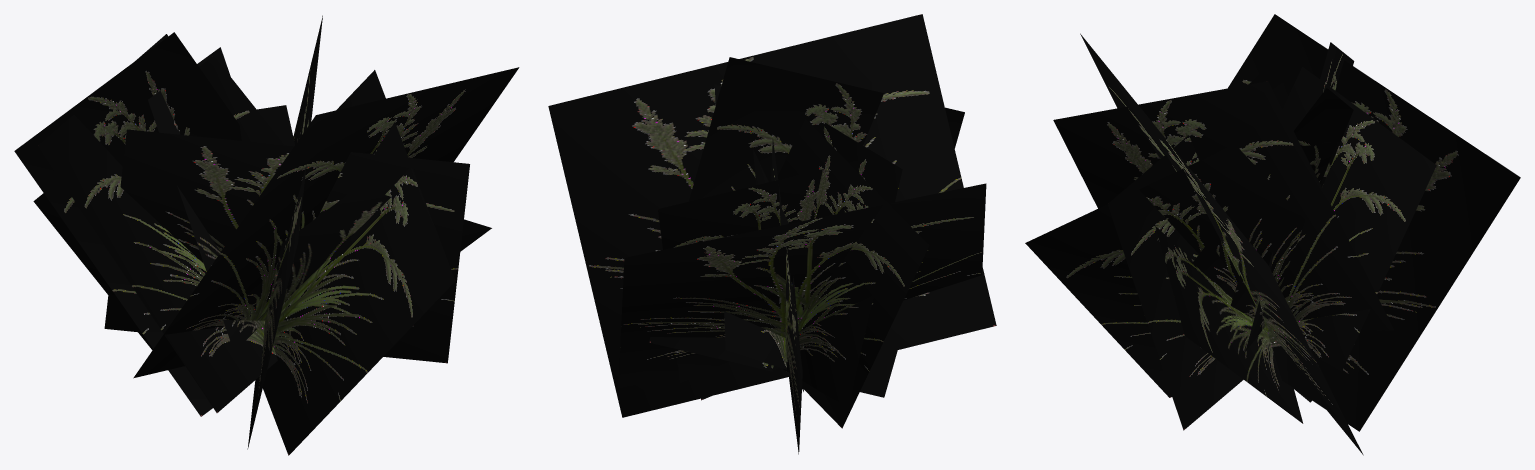
Rendered from Grass_24.fbx.
The picture shows the model from 3 angles, left to right: view 1: azimuth 30°, elevation 25°; view 2: azimuth 150°, elevation 25°; view 3: azimuth 270°, elevation 25°; orthographic projection. The views are drawn at different scales.
Visible parts, largest first — view 1: Grass_24; view 2: Grass_24; view 3: Grass_24.
Part boxes in pixels (x1=…): Grass_24: x1=14, y1=15, x2=519, y2=455; Grass_24: x1=548, y1=14, x2=996, y2=454; Grass_24: x1=1025, y1=14, x2=1520, y2=455.
Size of the model in its own units: 4780 by 3743 by 4594.
